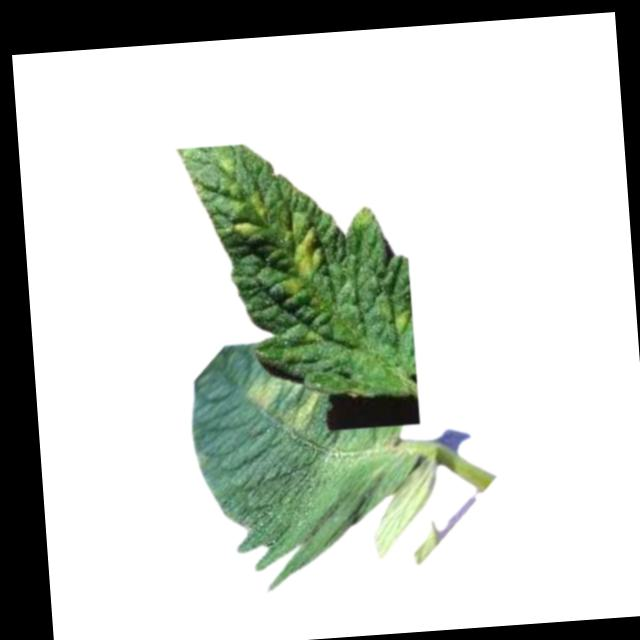Leaf_Mold: (274, 212, 326, 296), (224, 188, 268, 240), (275, 390, 324, 434), (243, 375, 282, 411)
